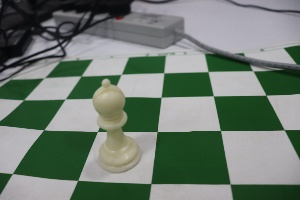white_bishop: (76, 62, 146, 179)
